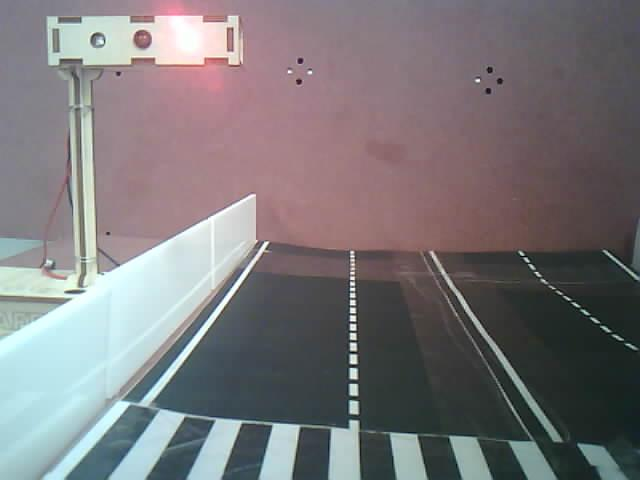crosswalk: (32, 387, 640, 480)
red: (34, 3, 259, 89)
